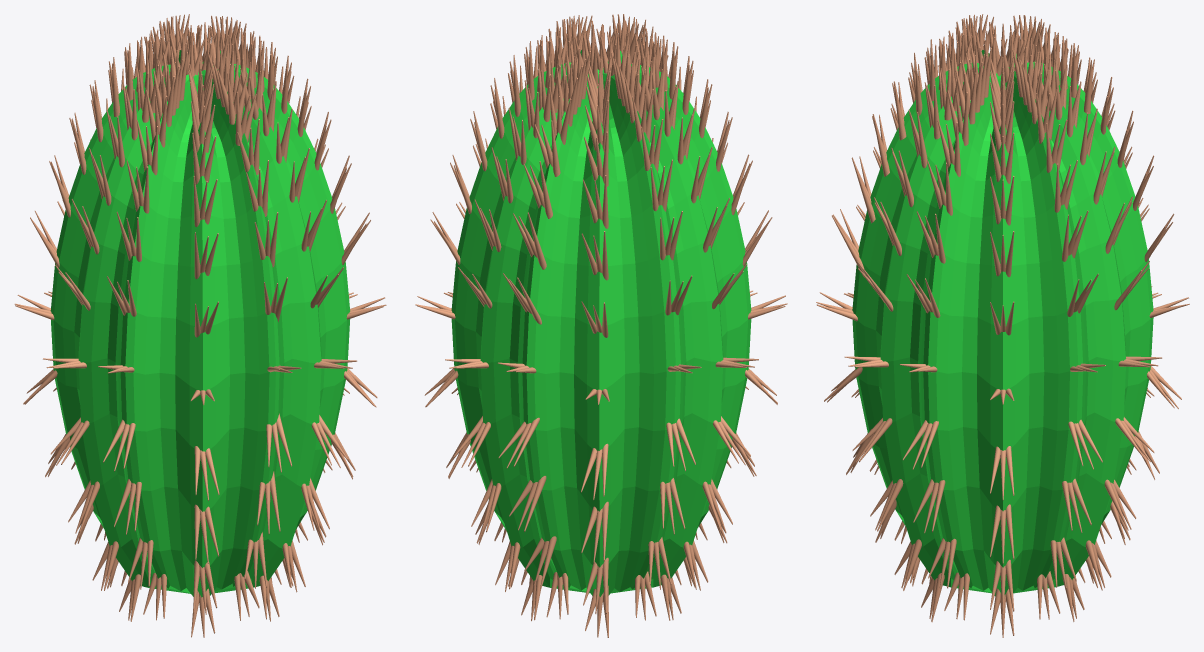
Rendered from Cactus1.fbx.
3 renders of one model, left to right at view 1: azimuth 30°, elevation 25°; view 2: azimuth 150°, elevation 25°; view 3: azimuth 270°, elevation 25°, orthographic.
Visible parts, largest first — view 1: Cactus4, Cactus4|spike.001|Dupli|87, Cactus4|spike.001|Dupli|34, Cactus4|spike.001|Dupli|185, Cactus4|spike.001|Dupli|35, Cactus4|spike.001|Dupli|181, Cactus4|spike.001|Dupli|104, Cactus4|spike.001|Dupli|85, Cactus4|spike.001|Dupli|183, Cactus4|spike.001|Dupli|131, Cactus4|spike.001|Dupli|133, Cactus4|spike.001|Dupli|24 (+20 smaller); view 2: Cactus4, Cactus4|spike.001|Dupli|71, Cactus4|spike.001|Dupli|38, Cactus4|spike.001|Dupli|171, Cactus4|spike.001|Dupli|167, Cactus4|spike.001|Dupli|37, Cactus4|spike.001|Dupli|123, Cactus4|spike.001|Dupli|22, Cactus4|spike.001|Dupli|107, Cactus4|spike.001|Dupli|169, Cactus4|spike.001|Dupli|15, Cactus4|spike.001|Dupli|69 (+19 smaller); view 3: Cactus4, Cactus4|spike.001|Dupli|55, Cactus4|spike.001|Dupli|40, Cactus4|spike.001|Dupli|158, Cactus4|spike.001|Dupli|153, Cactus4|spike.001|Dupli|39, Cactus4|spike.001|Dupli|53, Cactus4|spike.001|Dupli|157, Cactus4|spike.001|Dupli|25, Cactus4|spike.001|Dupli|154, Cactus4|spike.001|Dupli|26, Cactus4|spike.001|Dupli|137 (+18 smaller).
Part boxes in pixels (bbox=[...]): Cactus4: bbox=[50, 50, 350, 597]; Cactus4|spike.001|Dupli|87: bbox=[194, 504, 219, 563]; Cactus4|spike.001|Dupli|34: bbox=[257, 471, 280, 534]; Cactus4|spike.001|Dupli|185: bbox=[193, 560, 217, 614]; Cactus4|spike.001|Dupli|35: bbox=[114, 479, 141, 534]; Cactus4|spike.001|Dupli|181: bbox=[194, 446, 219, 500]; Cactus4|spike.001|Dupli|104: bbox=[266, 413, 292, 472]; Cactus4|spike.001|Dupli|85: bbox=[192, 133, 216, 184]; Cactus4|spike.001|Dupli|183: bbox=[193, 176, 217, 226]; Cactus4|spike.001|Dupli|131: bbox=[244, 532, 267, 588]; Cactus4|spike.001|Dupli|133: bbox=[103, 419, 135, 471]; Cactus4|spike.001|Dupli|24: bbox=[237, 119, 259, 174]; Cactus4: bbox=[451, 50, 751, 596]; Cactus4|spike.001|Dupli|71: bbox=[581, 501, 608, 562]; Cactus4|spike.001|Dupli|38: bbox=[509, 476, 546, 531]; Cactus4|spike.001|Dupli|171: bbox=[583, 557, 608, 613]; Cactus4|spike.001|Dupli|167: bbox=[581, 443, 608, 500]; Cactus4|spike.001|Dupli|37: bbox=[660, 478, 685, 534]; Cactus4|spike.001|Dupli|123: bbox=[524, 161, 552, 218]; Cactus4|spike.001|Dupli|22: bbox=[534, 120, 560, 176]; Cactus4|spike.001|Dupli|107: bbox=[524, 536, 556, 588]; Cactus4|spike.001|Dupli|169: bbox=[583, 175, 608, 228]; Cactus4|spike.001|Dupli|15: bbox=[513, 212, 546, 269]; Cactus4|spike.001|Dupli|69: bbox=[584, 131, 608, 186]; Cactus4: bbox=[852, 50, 1153, 595]; Cactus4|spike.001|Dupli|55: bbox=[990, 504, 1014, 563]; Cactus4|spike.001|Dupli|40: bbox=[913, 479, 945, 533]; Cactus4|spike.001|Dupli|158: bbox=[990, 559, 1014, 614]; Cactus4|spike.001|Dupli|153: bbox=[990, 446, 1014, 500]; Cactus4|spike.001|Dupli|39: bbox=[1062, 478, 1091, 532]; Cactus4|spike.001|Dupli|53: bbox=[990, 132, 1014, 183]; Cactus4|spike.001|Dupli|157: bbox=[990, 101, 1014, 153]; Cactus4|spike.001|Dupli|25: bbox=[937, 120, 960, 176]; Cactus4|spike.001|Dupli|154: bbox=[990, 176, 1014, 225]; Cactus4|spike.001|Dupli|26: bbox=[1046, 119, 1067, 172]; Cactus4|spike.001|Dupli|137: bbox=[928, 538, 956, 588].
Size of the model in its own units: 129 by 231 by 136.
